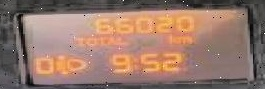0: (30, 55, 52, 74), (172, 14, 194, 31), (132, 16, 152, 32)
2: (159, 51, 181, 71), (152, 16, 172, 31)
5: (136, 51, 158, 72)
6: (90, 16, 112, 33), (112, 16, 132, 32)
9: (105, 53, 129, 73)
X: (176, 35, 191, 44), (83, 36, 96, 45), (165, 33, 176, 43), (129, 56, 136, 71), (72, 36, 83, 45), (114, 36, 125, 45), (105, 36, 114, 43), (96, 36, 105, 43)
